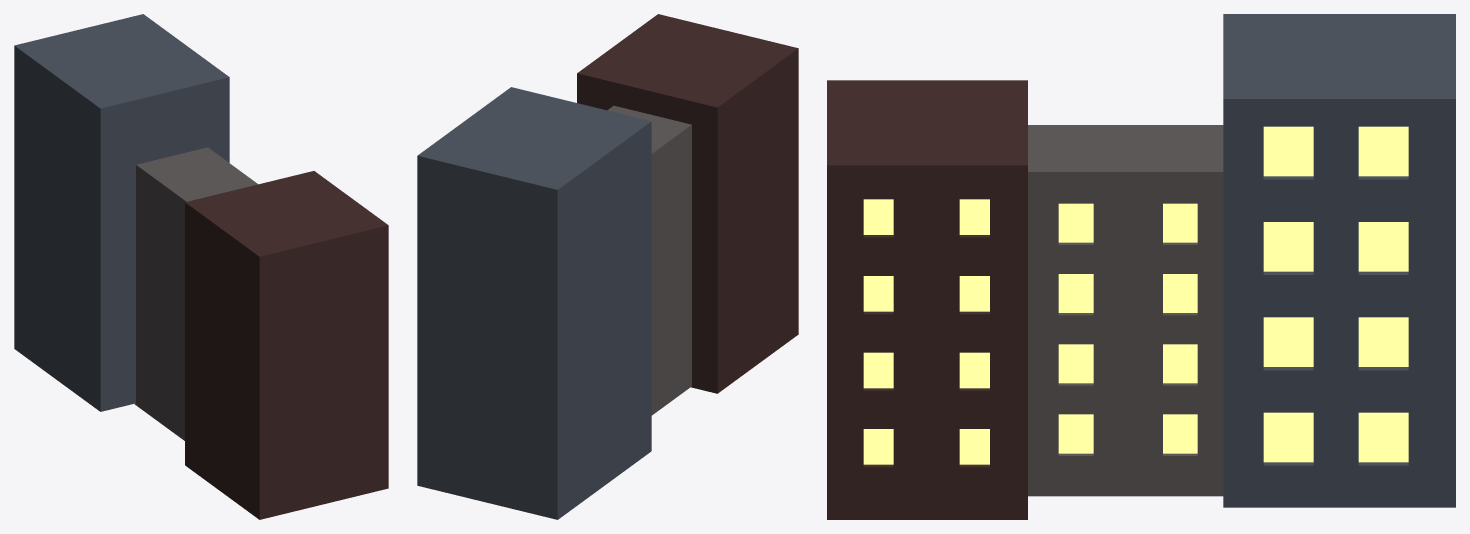
Rendered from Buildings.fbx.
The picture shows the model from 3 angles, left to right: view 1: azimuth 30°, elevation 25°; view 2: azimuth 150°, elevation 25°; view 3: azimuth 270°, elevation 25°; orthographic projection. The views are drawn at different scales.
Visible parts, largest first — view 1: Building1, Building3, Building2; view 2: Building3, Building1, Building2; view 3: Building3, Building1, Building2, Windows3, Windows2, Windows.
Part boxes in pixels (box(x1,y1,x2,y2)): Building1: box(185, 171, 388, 519); Building3: box(14, 14, 229, 411); Building2: box(134, 147, 257, 440); Building3: box(417, 87, 651, 519); Building1: box(577, 14, 798, 393); Building2: box(607, 105, 691, 415); Building3: box(1223, 14, 1455, 507); Building1: box(827, 80, 1027, 519); Building2: box(1028, 125, 1223, 496); Windows3: box(1263, 126, 1408, 462); Windows2: box(1058, 203, 1197, 453); Windows: box(863, 199, 989, 464).
Bounding box in the file's own units: 2386 × 4955 × 6835.
